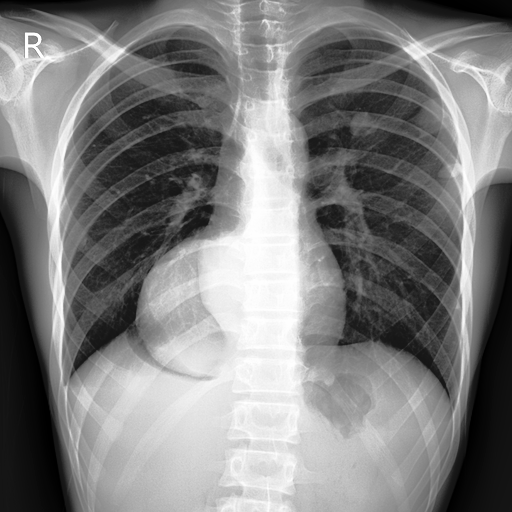Other lesion: (411, 99, 454, 136)
Pleural thickening: (135, 233, 248, 379), (417, 96, 452, 122), (438, 164, 463, 179)
Pulmonary fibrosis: (135, 233, 248, 379), (416, 96, 451, 135), (351, 110, 374, 136), (436, 164, 464, 178)
